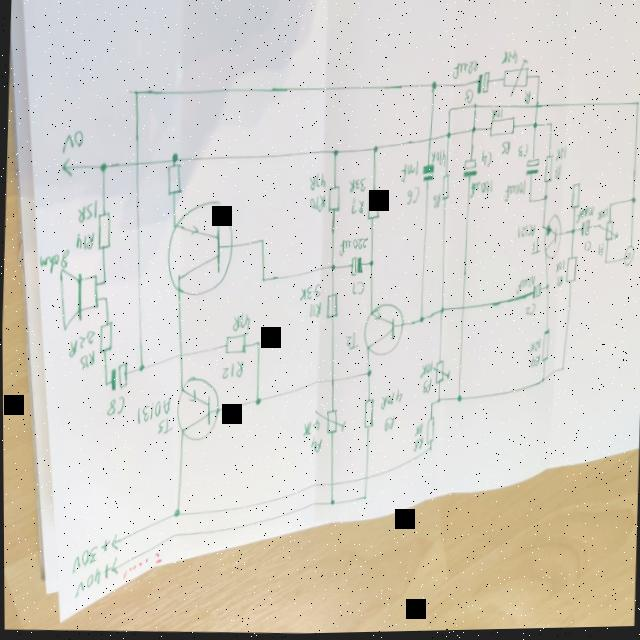capacitor: (109, 360, 129, 394), (459, 156, 481, 181), (348, 257, 364, 280), (476, 74, 491, 98), (524, 159, 540, 181), (421, 164, 436, 186), (580, 221, 591, 241), (531, 284, 542, 303)
crossover: (328, 377, 336, 387), (176, 352, 184, 361), (133, 160, 140, 170), (459, 305, 465, 315), (534, 105, 540, 114), (328, 481, 334, 490), (362, 476, 368, 484), (427, 137, 433, 145)
junction: (172, 508, 181, 521), (99, 163, 108, 175), (138, 362, 146, 375), (170, 153, 178, 165), (254, 398, 262, 408), (132, 89, 140, 99), (431, 83, 438, 94), (570, 228, 576, 239), (372, 147, 379, 156), (471, 127, 477, 137), (368, 260, 374, 270), (456, 396, 462, 406), (102, 279, 108, 289), (330, 265, 336, 274), (446, 133, 452, 142), (255, 341, 261, 350), (366, 371, 372, 380), (259, 239, 265, 248), (332, 150, 338, 159), (102, 296, 108, 305), (532, 125, 538, 133), (328, 501, 334, 509), (631, 200, 637, 208), (418, 318, 424, 326), (543, 197, 549, 205), (260, 278, 266, 286), (361, 496, 367, 504), (439, 308, 445, 316), (527, 200, 533, 208), (472, 105, 478, 113), (544, 286, 550, 294), (540, 378, 546, 386), (447, 110, 453, 117), (435, 399, 441, 406), (635, 103, 640, 111), (603, 262, 608, 270), (103, 380, 108, 388), (608, 205, 613, 212), (430, 403, 434, 410), (537, 78, 541, 84), (549, 124, 553, 130), (561, 369, 565, 375), (428, 450, 432, 456)
resistor: (502, 60, 529, 102), (313, 410, 346, 439), (97, 211, 113, 253), (97, 320, 115, 357), (489, 118, 516, 141), (166, 164, 183, 199), (224, 333, 247, 357), (432, 361, 451, 388), (598, 223, 619, 246), (362, 400, 376, 433), (367, 191, 381, 223), (565, 258, 579, 287), (540, 331, 551, 367), (325, 294, 339, 322), (328, 187, 341, 215), (440, 175, 451, 206), (569, 182, 580, 213), (543, 158, 554, 186), (426, 418, 435, 448)
terminal: (59, 158, 75, 178), (623, 247, 636, 271), (110, 557, 119, 576), (110, 534, 119, 553)
text: (71, 537, 110, 576), (73, 564, 110, 600), (135, 395, 172, 428), (67, 330, 97, 359), (38, 249, 70, 275), (451, 61, 480, 84), (61, 129, 84, 156), (338, 238, 370, 257), (378, 390, 403, 413), (502, 183, 526, 206), (76, 200, 98, 225), (105, 395, 126, 420), (399, 161, 419, 187), (221, 361, 244, 383), (514, 276, 535, 299), (470, 182, 494, 202), (78, 348, 96, 373), (74, 231, 95, 252), (230, 313, 250, 335), (298, 285, 321, 304), (574, 208, 594, 228), (309, 195, 327, 217), (308, 174, 327, 194), (430, 150, 447, 172), (348, 178, 367, 197), (302, 420, 321, 439), (155, 418, 174, 437), (306, 302, 321, 324), (500, 51, 518, 69), (350, 198, 364, 220), (349, 281, 365, 300), (405, 188, 420, 208), (419, 361, 434, 381), (344, 334, 359, 353), (517, 227, 535, 242), (554, 148, 568, 166), (310, 438, 323, 457), (487, 108, 503, 123), (481, 152, 493, 172), (528, 340, 542, 357), (516, 145, 529, 163), (498, 143, 510, 161), (529, 241, 541, 259), (382, 417, 394, 434), (412, 438, 424, 455), (421, 379, 432, 397), (529, 356, 541, 372), (464, 90, 475, 107), (413, 424, 424, 440), (554, 166, 563, 185), (595, 210, 608, 223), (524, 305, 536, 319), (432, 194, 441, 212), (595, 244, 604, 261), (555, 263, 565, 277), (523, 93, 531, 107), (555, 277, 563, 291), (583, 244, 592, 256)
transistor: (165, 195, 235, 301), (175, 376, 221, 444), (361, 301, 406, 359), (539, 216, 563, 263)
